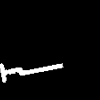half_double_crochet: (0, 63, 62, 81)
